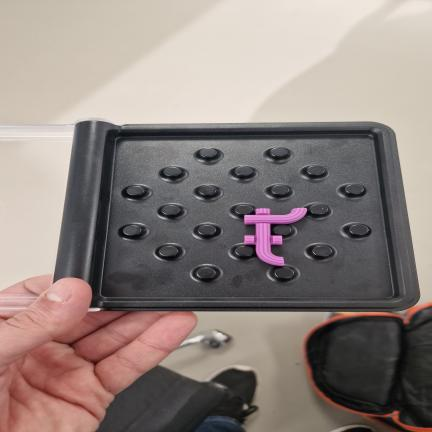H_Purple: (245, 209, 306, 266)
K_YellowGreen: (272, 254, 273, 254)
board: (56, 121, 419, 312)
hinge: (52, 114, 114, 320)
pin: (158, 245, 178, 258), (311, 245, 332, 257), (196, 267, 216, 279), (348, 224, 369, 235), (275, 267, 294, 279), (344, 184, 364, 195), (197, 225, 217, 236), (269, 147, 288, 158), (306, 165, 325, 176), (234, 166, 253, 177), (198, 185, 217, 196), (309, 204, 328, 215), (161, 205, 180, 216), (123, 225, 142, 236), (235, 246, 254, 257), (199, 148, 217, 159), (163, 166, 181, 177), (126, 186, 145, 196), (234, 205, 253, 215), (271, 185, 289, 195), (273, 225, 291, 235)
